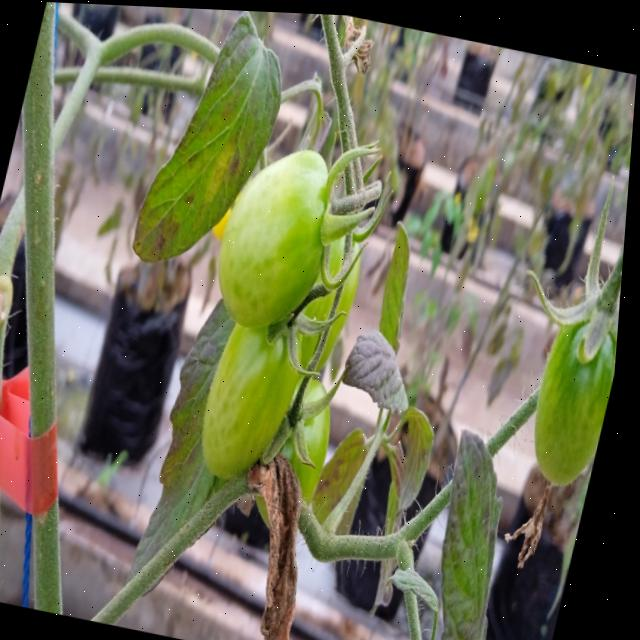unripe: (205, 118, 365, 344), (182, 302, 338, 496), (500, 260, 626, 488), (0, 314, 8, 445)
